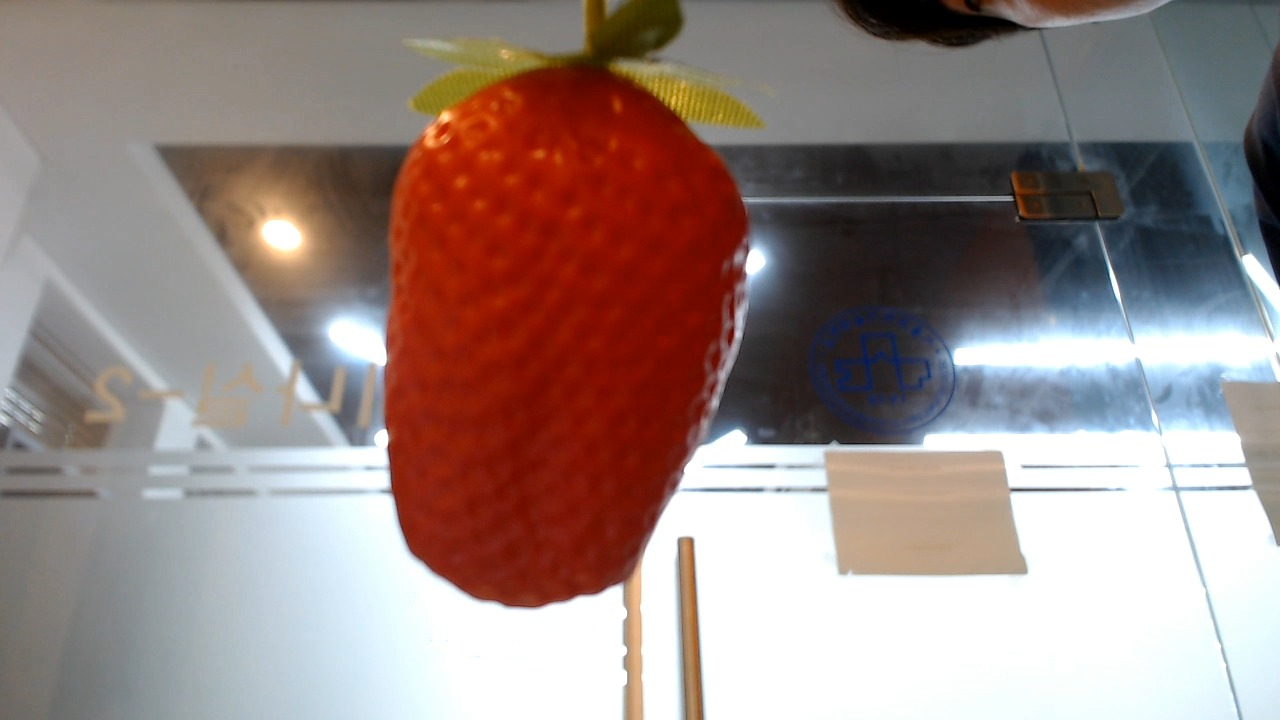strawberry: (385, 4, 746, 608)
